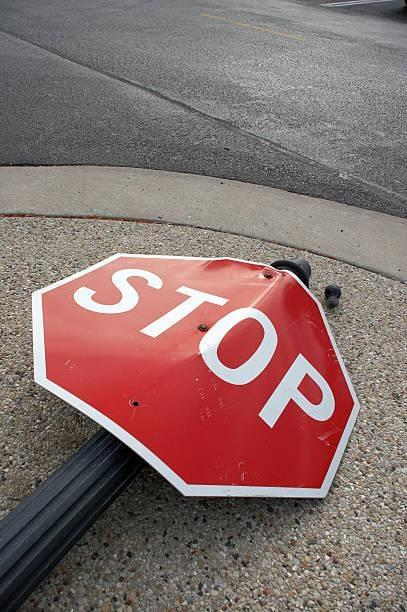Stop-Sign: (22, 248, 370, 506)
